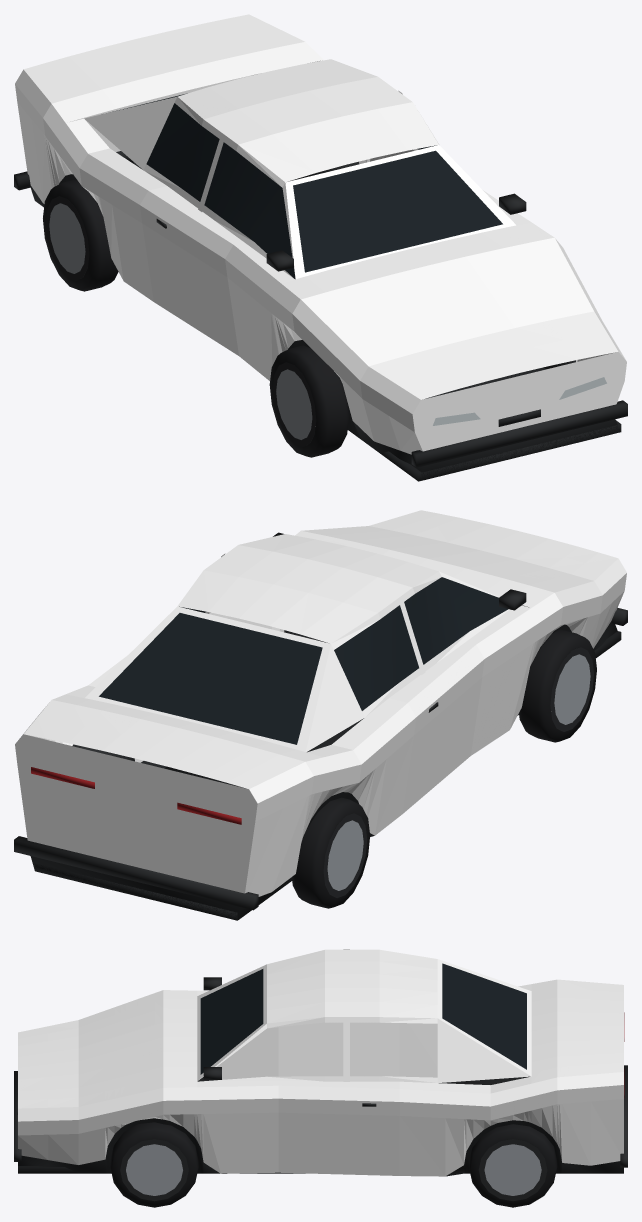
The model's file is norrvik_anfora.glb.
3 views of the same model, one above another, from view 1: azimuth 30°, elevation 25°; view 2: azimuth 150°, elevation 25°; view 3: azimuth 270°, elevation 25° (orthographic). The views are drawn at different scales.
Parts seen in each view (by area): view 1: Body_Paint, Body_Details, Mount_FrontLeft_Wheel_Details, Mount_RearLeft_Wheel_Details; view 2: Body_Paint, Body_Details, Mount_FrontLeft_Wheel_Details, Mount_RearLeft_Wheel_Details; view 3: Body_Paint, Body_Details, Mount_FrontRight_Wheel_Details, Mount_RearRight_Wheel_Details.
Boxes of the visible parts, x1=… form: Body_Paint: x1=15, y1=14, x2=626, y2=454; Body_Details: x1=14, y1=93, x2=627, y2=481; Mount_FrontLeft_Wheel_Details: x1=269, y1=345, x2=348, y2=457; Mount_RearLeft_Wheel_Details: x1=43, y1=180, x2=118, y2=291; Body_Paint: x1=15, y1=510, x2=626, y2=896; Body_Details: x1=14, y1=532, x2=627, y2=920; Mount_FrontLeft_Wheel_Details: x1=519, y1=629, x2=596, y2=742; Mount_RearLeft_Wheel_Details: x1=292, y1=797, x2=370, y2=908; Body_Paint: x1=18, y1=949, x2=623, y2=1176; Body_Details: x1=14, y1=963, x2=627, y2=1176; Mount_FrontRight_Wheel_Details: x1=110, y1=1122, x2=198, y2=1207; Mount_RearRight_Wheel_Details: x1=469, y1=1124, x2=557, y2=1207.
Size of the model in its own units: 1.81 by 1.36 by 4.32.
2 materials, 1 textured.
